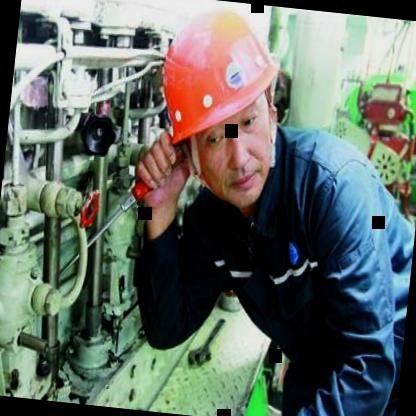helmet: (136, 0, 296, 214)
